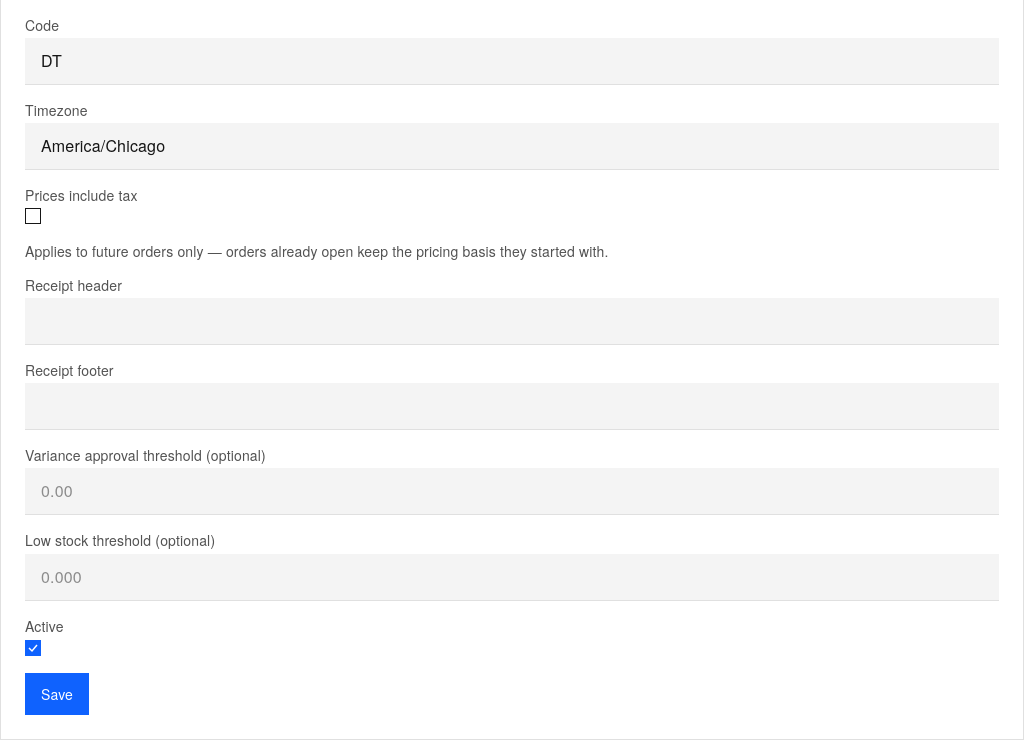
Test: LocationEditor › cancelling the deactivate ConfirmDialog blocks the save
(page scrolled)
Click the checkbox named "active" below "Active": click(33, 648) [25,640,41,656]
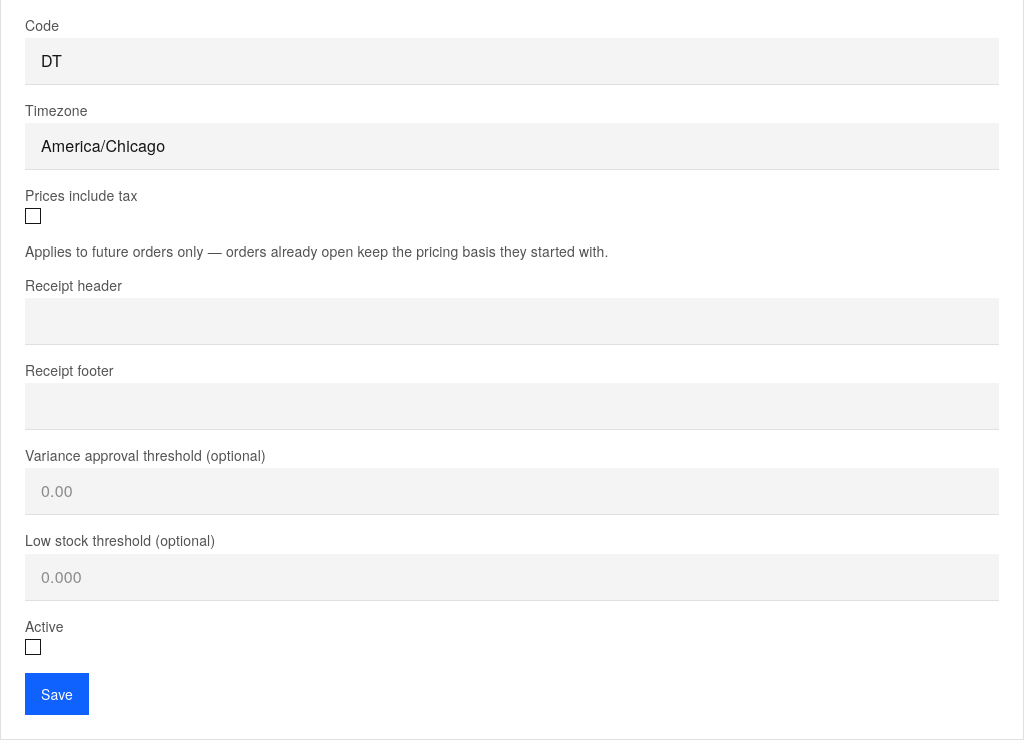
Click the button "Save": click(57, 694) [25,673,89,715]
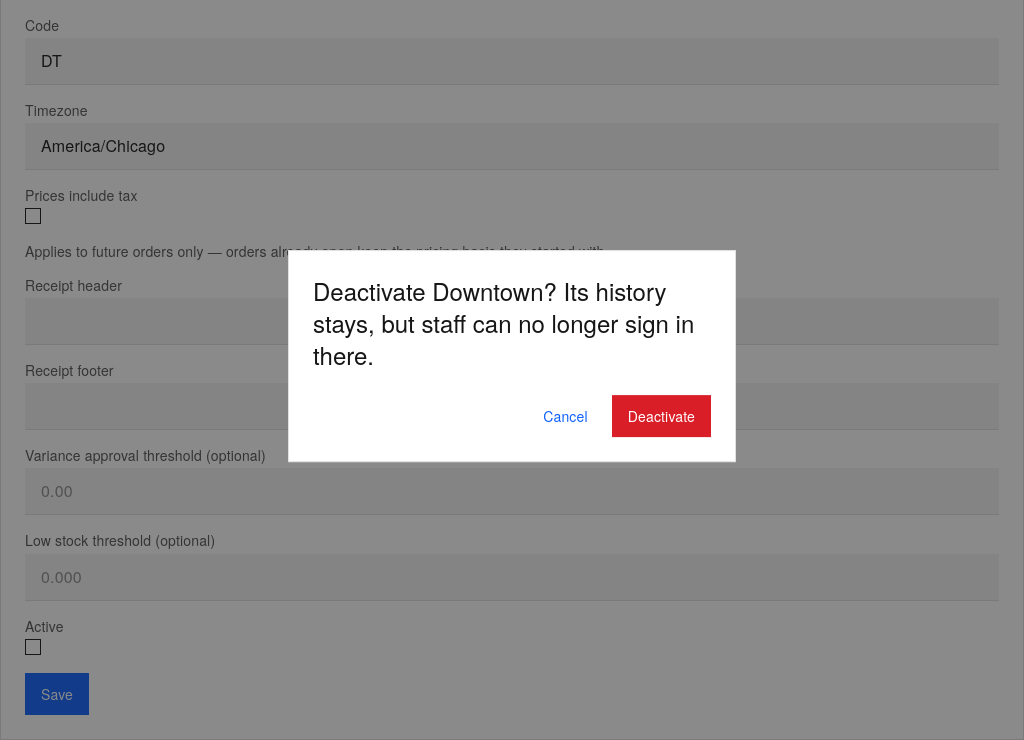
Expected: the heading "Deactivate Downtown? Its history stays, but staff can no longer sign in there." is shown, [313,275,711,371]
Click the button "Cancel": click(565, 416) [527,395,604,437]
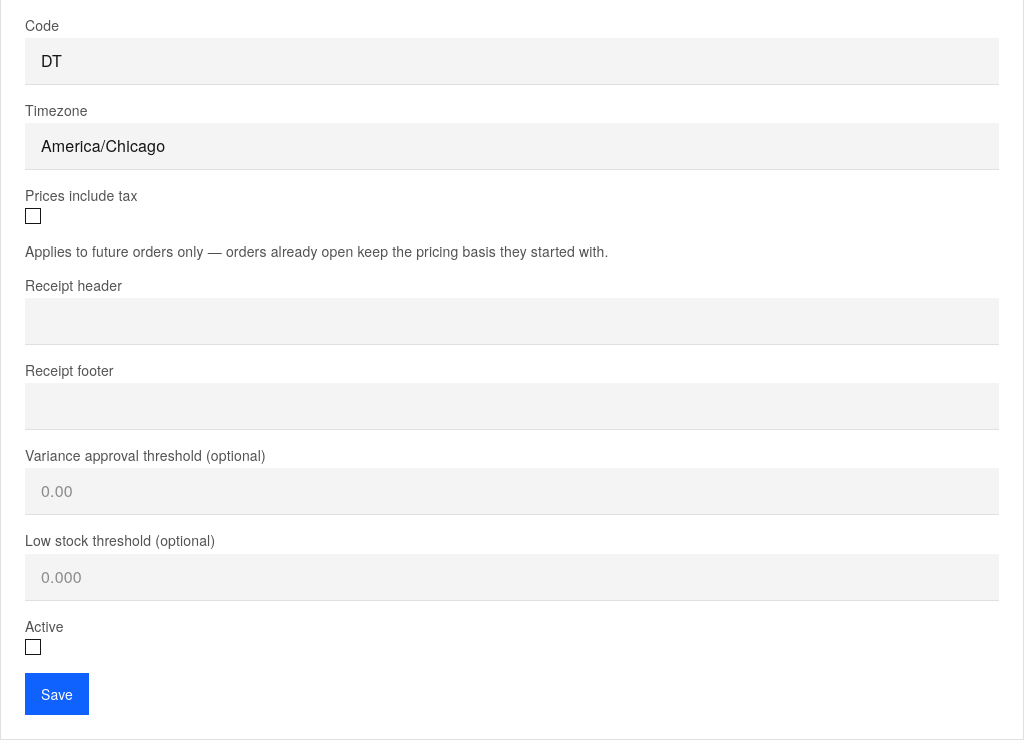
Expected: the dialog is gone
